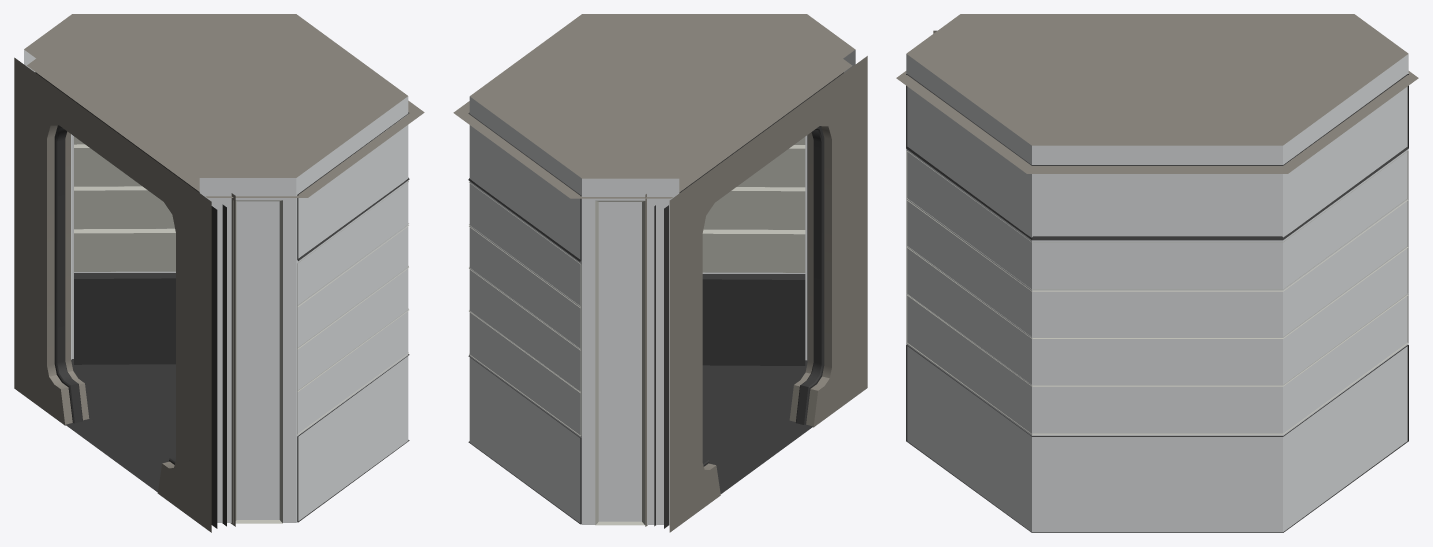
Rendered from SideRoom.fbx.
3 views of the same model, side by side, from view 1: azimuth 30°, elevation 25°; view 2: azimuth 150°, elevation 25°; view 3: azimuth 270°, elevation 25° (orthographic). The views are drawn at different scales.
Parts seen in each view (by area): view 1: SideRoom; view 2: SideRoom; view 3: SideRoom.
Part boxes in pixels (<box>): SideRoom: <box>14,14,424,532</box>; SideRoom: <box>453,14,867,532</box>; SideRoom: <box>896,14,1418,532</box>.
Size of the model in its own units: 21.85 by 28.36 by 34.64.
